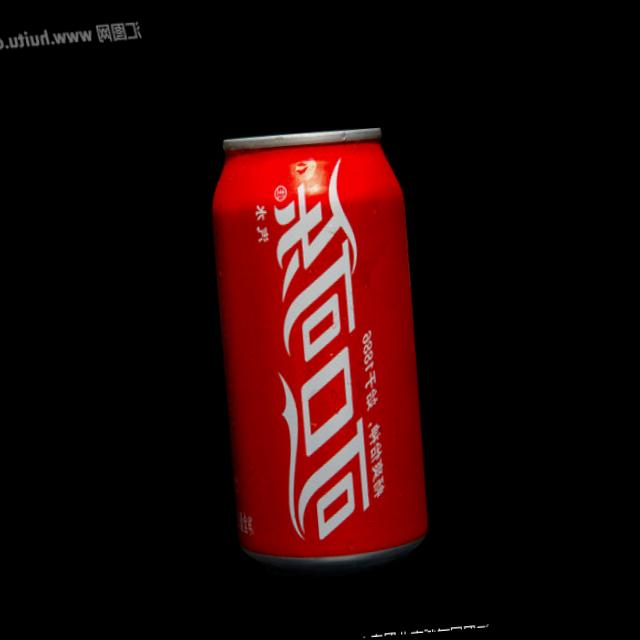can: (196, 117, 441, 584)
